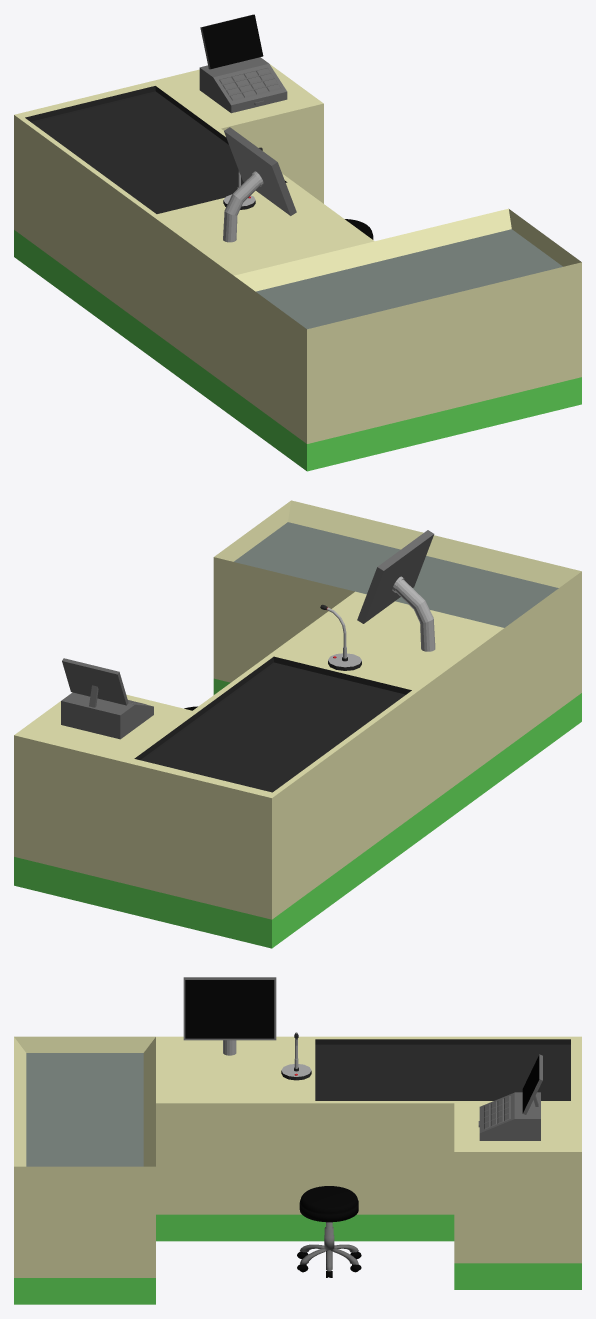
The model's file is E_Kasafbx_c.fbx.
3 renders of one model, top to bottom at view 1: azimuth 30°, elevation 25°; view 2: azimuth 150°, elevation 25°; view 3: azimuth 270°, elevation 25°, orthographic. The views are drawn at different scales.
Parts seen in each view (by area): view 1: Kasa; view 2: Kasa, Mikrofon; view 3: Kasa, Tabure, Mikrofon.
Boxes of the visible parts, <box> form: Kasa: <box>14,14,581,471</box>; Kasa: <box>14,500,581,948</box>; Mikrofon: <box>320,604,361,670</box>; Kasa: <box>14,977,581,1304</box>; Tabure: <box>297,1186,361,1277</box>; Mikrofon: <box>281,1032,311,1080</box>.
Bounding box in the file's own units: 208 × 167 × 385.
